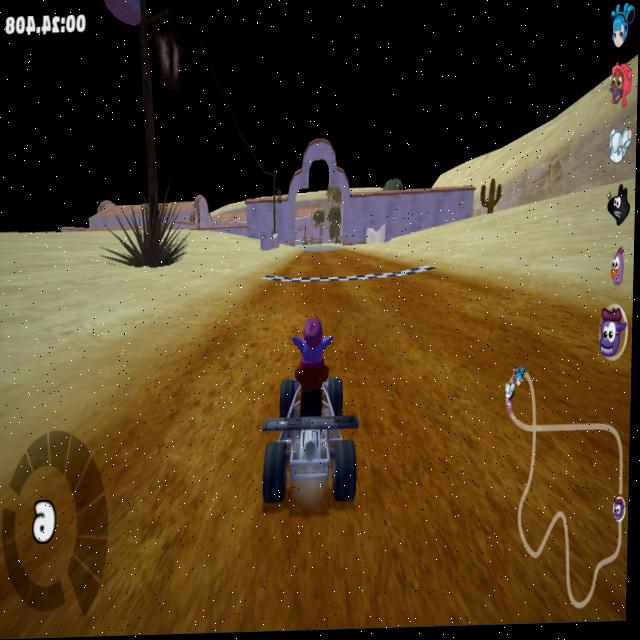player_kart: (261, 319, 360, 518)
track: (0, 503, 627, 640), (358, 314, 630, 506), (142, 326, 264, 517), (22, 412, 143, 522), (338, 246, 434, 321), (296, 239, 339, 317), (431, 282, 499, 320), (226, 286, 294, 322), (267, 252, 295, 288)
